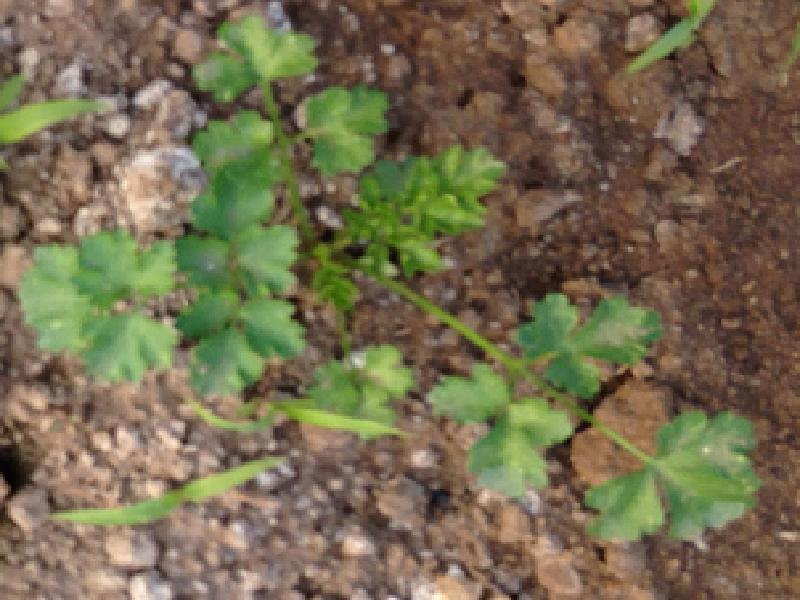radish: (147, 32, 766, 534)
